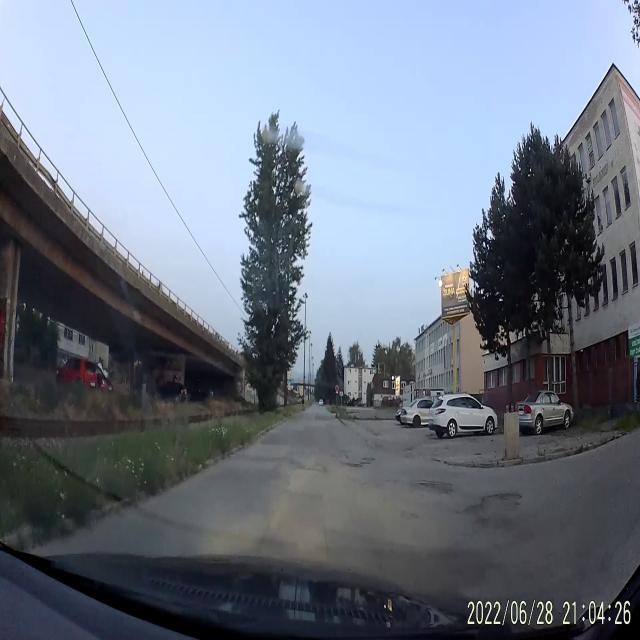Pothole: (474, 490, 520, 520), (414, 478, 457, 497), (340, 459, 362, 472), (362, 451, 376, 466)
